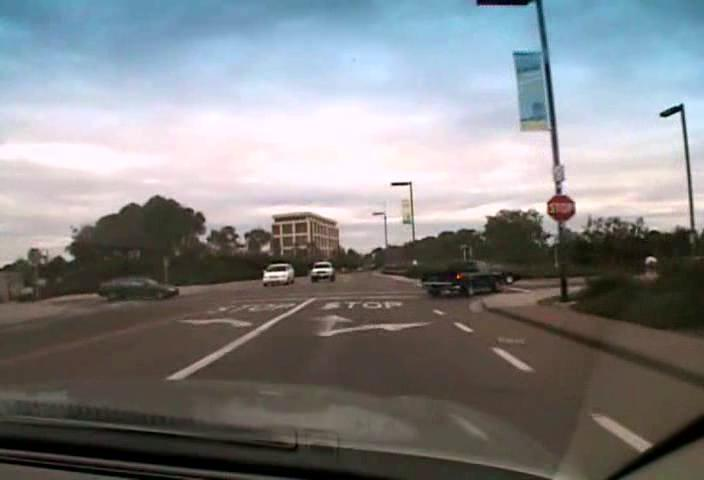stop: (545, 193, 575, 221)
